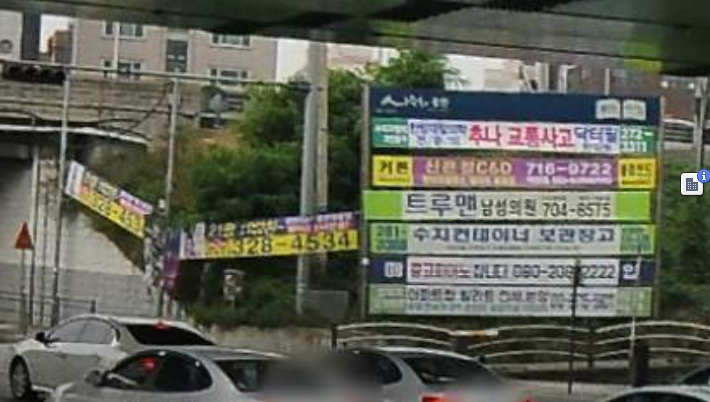banner: (367, 144, 666, 194), (367, 118, 660, 162), (352, 187, 654, 225), (366, 280, 659, 319), (365, 219, 660, 256), (364, 253, 658, 289), (177, 207, 357, 261), (61, 161, 151, 238)
